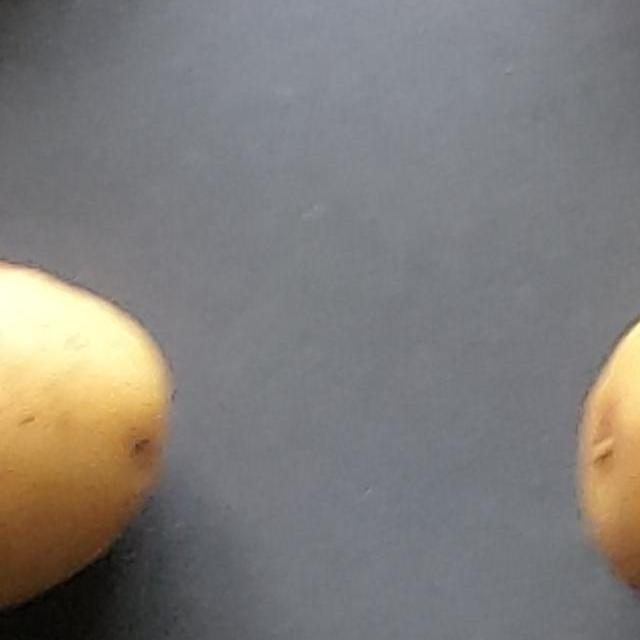potato: (0, 156, 247, 640), (496, 186, 640, 640)
